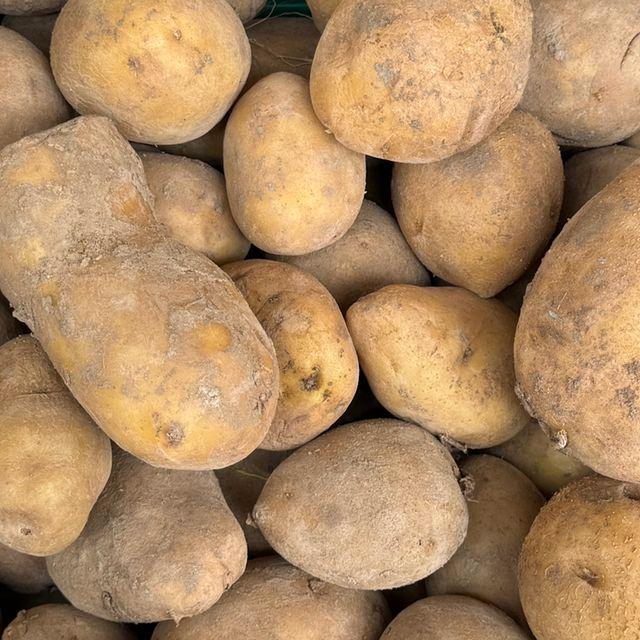potato: (0, 85, 292, 472), (308, 0, 568, 202), (518, 99, 640, 516), (342, 566, 612, 640)
